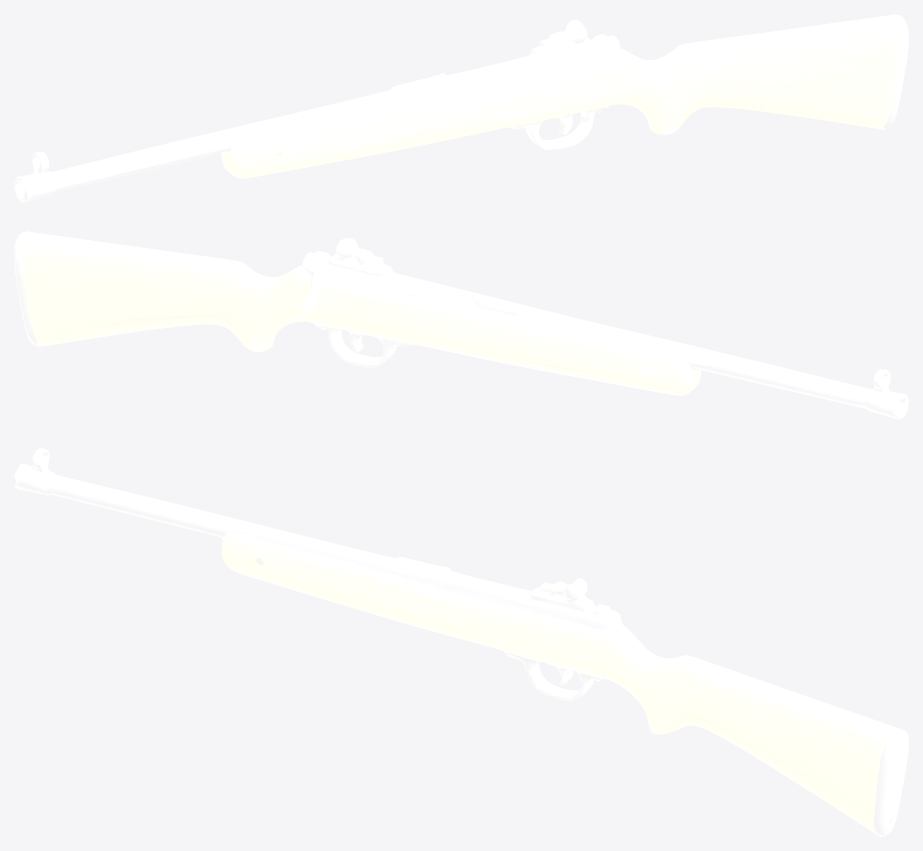
The model's file is gun.glb.
3 views of the same model, one above another, from view 1: azimuth 30°, elevation 25°; view 2: azimuth 150°, elevation 25°; view 3: azimuth 330°, elevation 25° (orthographic).
Visible parts, largest first — view 1: Mesh1.0; view 2: Mesh1.0; view 3: Mesh1.0.
Part boxes in pixels (box(x1,y1,x2,y2)): Mesh1.0: box(14, 14, 908, 202); Mesh1.0: box(14, 231, 908, 419); Mesh1.0: box(14, 448, 908, 836).
Bounding box in the file's own units: 1.91 × 0.3749 × 0.1061.
1 material, 1 textured.
